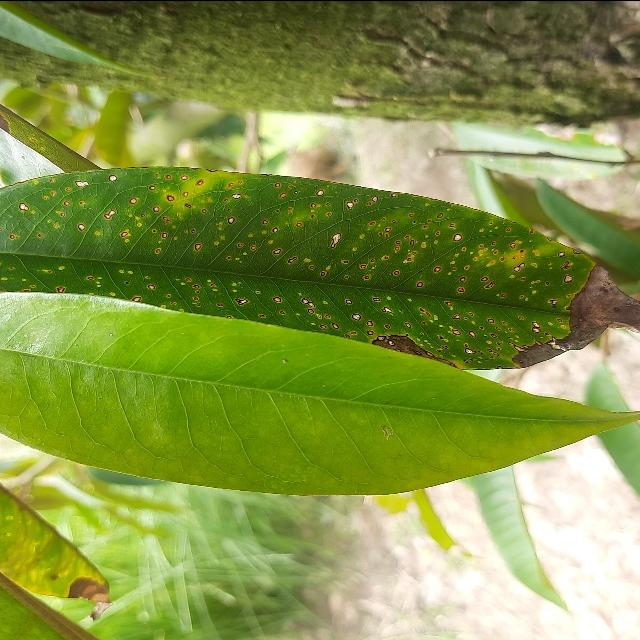Leaf Spot: (0, 159, 640, 376)
No Disease: (0, 296, 640, 501)
